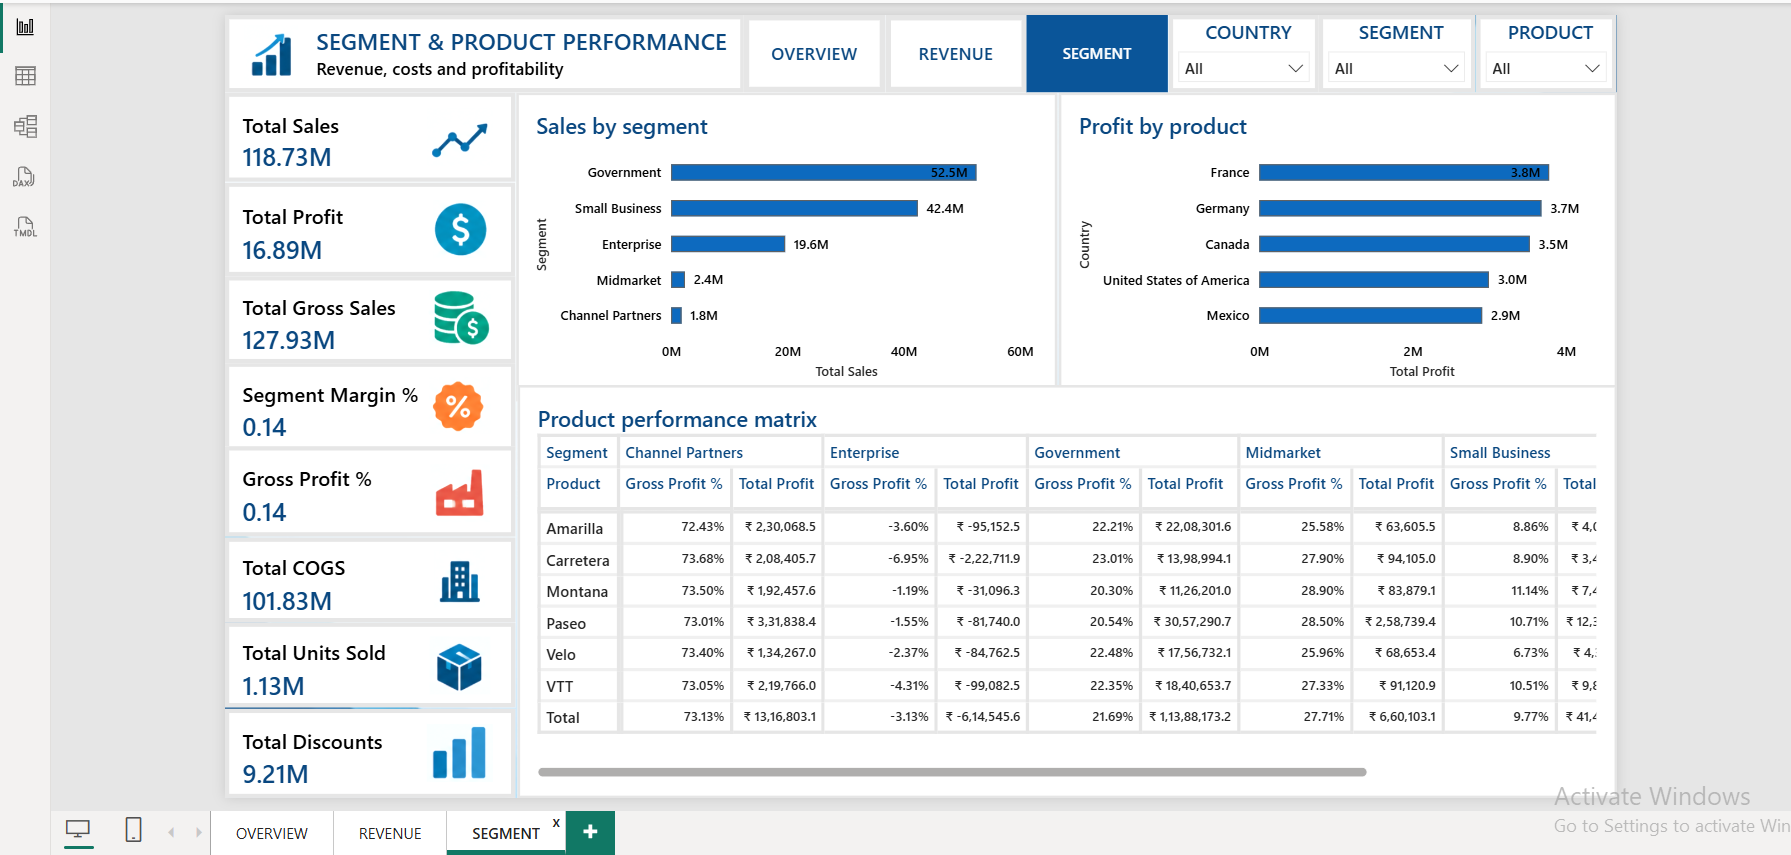

This screenshot's page, from the dashboard's own definition file:
{"tool":"powerbi","page":{"name":"SEGMENT","canvas":[1280,720],"ordinal":2},"visuals":[{"type":"slicer","title":"COUNTRY","fields":{"Values":["financial_sample_cleaned.Discount Band"]},"box":[867.5,0,138.8,71.2],"z":0},{"type":"slicer","title":"SEGMENT","fields":{"Values":["financial_sample_cleaned.Product"]},"box":[1006.2,0,143.8,71.2],"z":1000},{"type":"shape","box":[0,0,477.8,71.2],"z":2000},{"type":"cardVisual","fields":{"Data":["financial_sample_cleaned.Total Sales"]},"box":[0,71.2,267.5,82.5],"z":3000},{"type":"cardVisual","fields":{"Data":["financial_sample_cleaned.Total Profit"]},"box":[0,153.8,267.5,86.2],"z":4000},{"type":"cardVisual","fields":{"Data":["financial_sample_cleaned.Segment Margin %"]},"box":[0,320,267.5,81.2],"z":5000},{"type":"cardVisual","fields":{"Data":["financial_sample_cleaned.Gross Profit %"]},"box":[0,396.2,267.5,83.8],"z":6000},{"type":"cardVisual","fields":{"Data":["financial_sample_cleaned.Total Gross Sales"]},"box":[0,240,267.5,80],"z":7000},{"type":"cardVisual","fields":{"Data":["financial_sample_cleaned.Total COGS"]},"box":[0,480,267.5,78.8],"z":8000},{"type":"cardVisual","fields":{"Data":["financial_sample_cleaned.Total Units Sold"]},"box":[0,558.8,267.5,78.8],"z":9000},{"type":"cardVisual","fields":{"Data":["financial_sample_cleaned.Total Discounts"]},"box":[0,637.5,267.5,82.5],"z":10000},{"type":"image","box":[173.8,85,85,53.8],"z":11000},{"type":"image","box":[173.8,170,85,53.8],"z":12000},{"type":"image","box":[173.8,252.5,85,53.8],"z":13000},{"type":"image","box":[173.8,332.5,85,53.8],"z":14000},{"type":"image","box":[173.8,412.5,85,53.8],"z":15000},{"type":"image","box":[173.8,492.5,85,53.8],"z":16000},{"type":"image","box":[173.8,571.2,85,53.8],"z":17000},{"type":"image","box":[173.8,651.2,85,53.8],"z":18000},{"type":"image","box":[0,8.8,85,53.8],"z":19000},{"type":"textbox","box":[84.5,9.7,382.4,53.1],"z":20000},{"type":"slicer","title":"PRODUCT","fields":{"Values":["financial_sample_cleaned.Product"]},"box":[1150,0,128.8,71.2],"z":21000},{"type":"clusteredBarChart","title":"Sales by segment","fields":{"Y":["financial_sample_cleaned.Total Sales"],"Category":["financial_sample_cleaned.Segment"]},"box":[267.5,71.2,497.5,283.8],"z":22000},{"type":"clusteredBarChart","title":"Profit by product","fields":{"Y":["financial_sample_cleaned.Total Profit"],"Category":["financial_sample_cleaned.Country"]},"box":[766.2,71.2,513.8,283.8],"z":23000},{"type":"pivotTable","title":"Product performance matrix","fields":{"Rows":["financial_sample_cleaned.Product"],"Values":["financial_sample_cleaned.Gross Profit %","financial_sample_cleaned.Total Profit"],"Columns":["financial_sample_cleaned.Segment"]},"box":[268.8,340,1011.2,380],"z":24000},{"type":"pageNavigator","box":[477.5,0,390,71.2],"z":25000}]}

Visuals, with their boxes on the page's 1280x720 design canvas (x1, y1, x2, y2). These are canvas units, not pixel positions in the 1791x855 screenshot, which may show the page scaled, cropped or inside an application window:
"COUNTRY" slicer: Rect(868, 0, 1006, 71)
"SEGMENT" slicer: Rect(1006, 0, 1150, 71)
shape: Rect(0, 0, 478, 71)
cardVisual - financial_sample_cleaned.Total Sales: Rect(0, 71, 268, 154)
cardVisual - financial_sample_cleaned.Total Profit: Rect(0, 154, 268, 240)
cardVisual - financial_sample_cleaned.Segment Margin %: Rect(0, 320, 268, 401)
cardVisual - financial_sample_cleaned.Gross Profit %: Rect(0, 396, 268, 480)
cardVisual - financial_sample_cleaned.Total Gross Sales: Rect(0, 240, 268, 320)
cardVisual - financial_sample_cleaned.Total COGS: Rect(0, 480, 268, 559)
cardVisual - financial_sample_cleaned.Total Units Sold: Rect(0, 559, 268, 638)
cardVisual - financial_sample_cleaned.Total Discounts: Rect(0, 638, 268, 720)
image: Rect(174, 85, 259, 139)
image: Rect(174, 170, 259, 224)
image: Rect(174, 252, 259, 306)
image: Rect(174, 332, 259, 386)
image: Rect(174, 412, 259, 466)
image: Rect(174, 492, 259, 546)
image: Rect(174, 571, 259, 625)
image: Rect(174, 651, 259, 705)
image: Rect(0, 9, 85, 63)
textbox: Rect(84, 10, 467, 63)
"PRODUCT" slicer: Rect(1150, 0, 1279, 71)
"Sales by segment" clusteredBarChart: Rect(268, 71, 765, 355)
"Profit by product" clusteredBarChart: Rect(766, 71, 1280, 355)
"Product performance matrix" pivotTable: Rect(269, 340, 1280, 720)
pageNavigator: Rect(478, 0, 868, 71)
